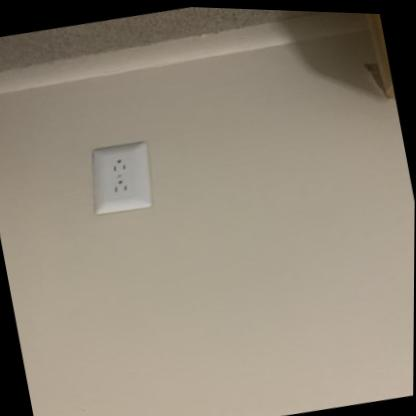OUTLET: (82, 137, 157, 217)
